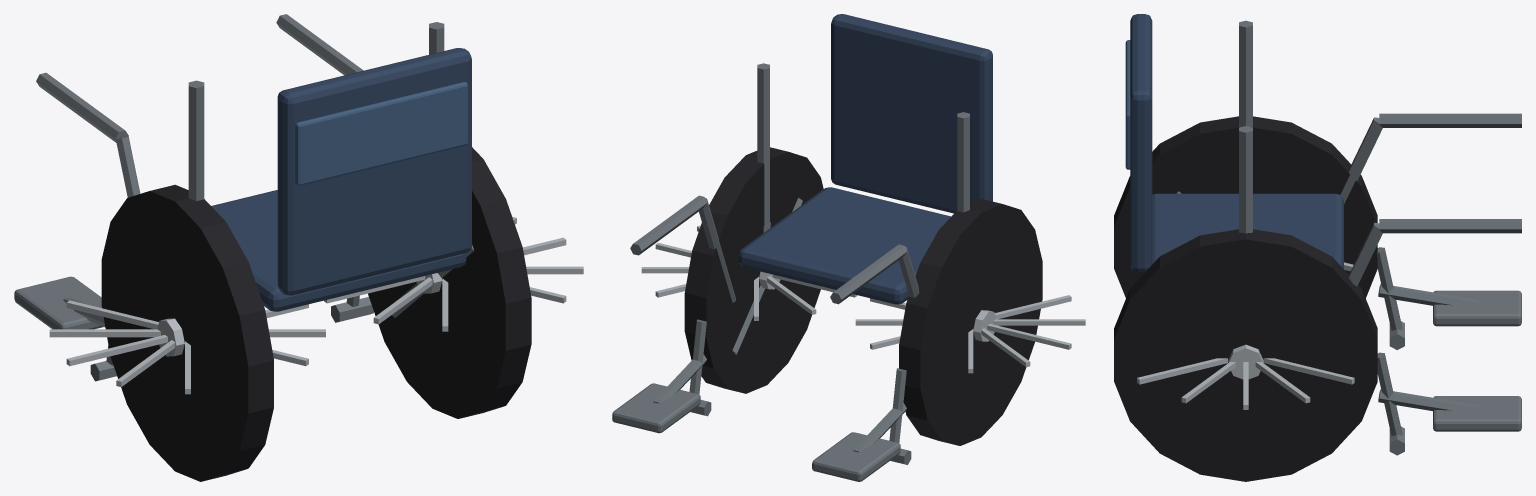
File: wheelchair.glb
3 views of the same model, side by side, from view 1: azimuth 30°, elevation 25°; view 2: azimuth 150°, elevation 25°; view 3: azimuth 270°, elevation 25° (orthographic). The views are drawn at different scales.
Parts seen in each view (by area): view 1: wheelchair; view 2: wheelchair; view 3: wheelchair.
Boxes of the visible parts, x1,y1,x2,y2 form: wheelchair: (14, 14, 583, 481); wheelchair: (612, 14, 1085, 481); wheelchair: (1114, 14, 1521, 481).
Size of what is drawn, in the model's own units: 1.16 by 0.9107 by 0.9161.
2 materials, 2 textured.
